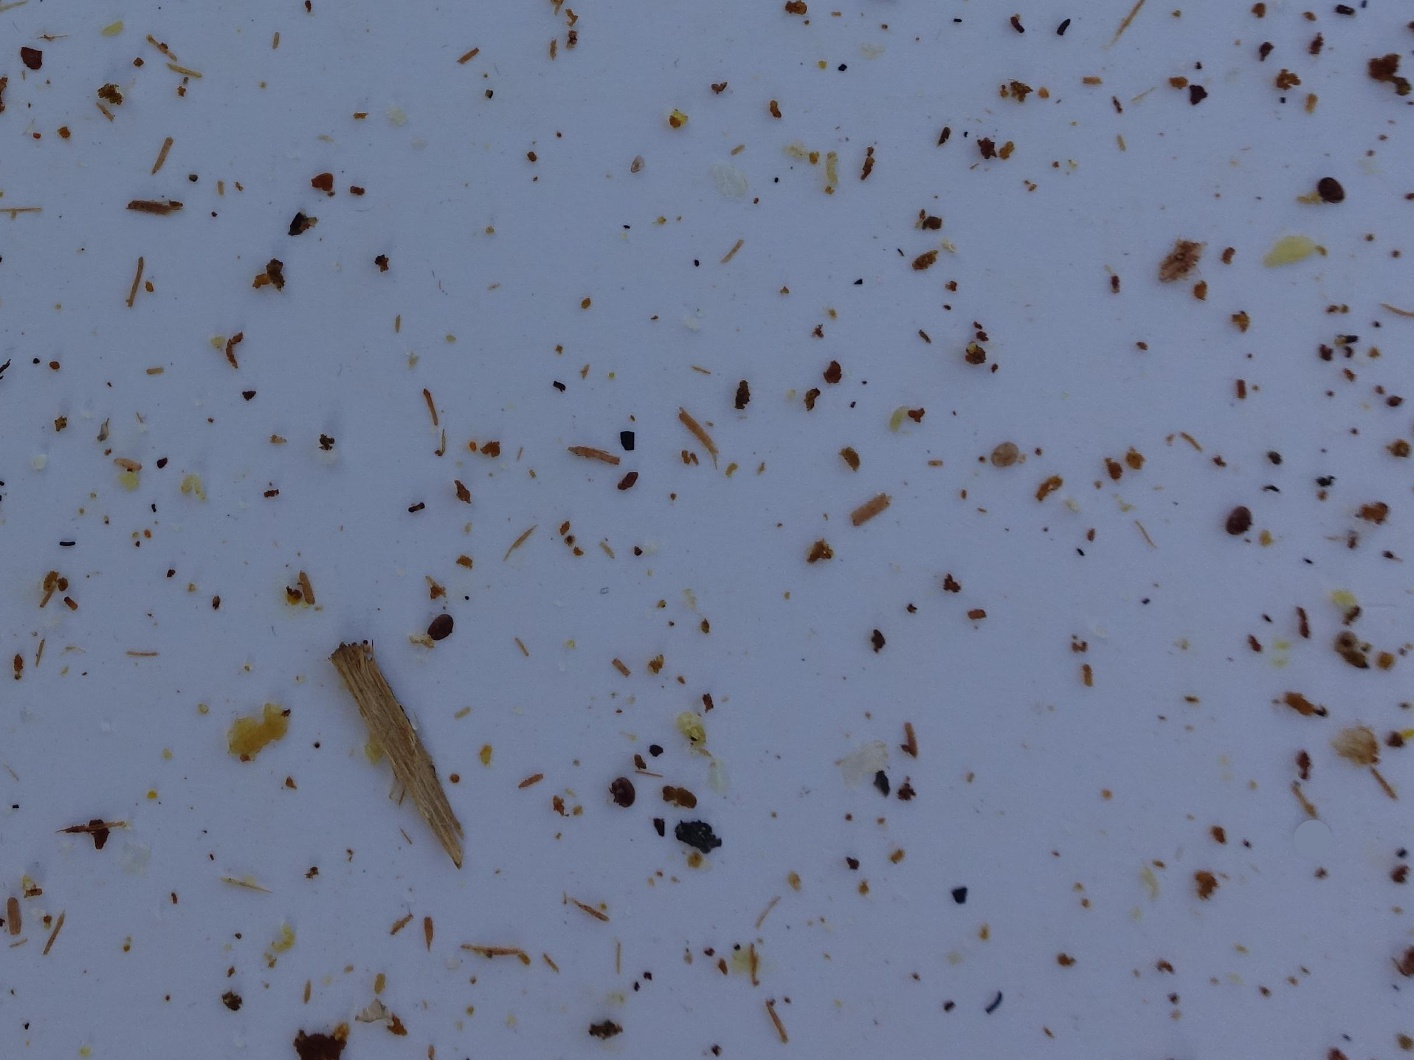Varroa: (606, 771, 642, 806), (1313, 173, 1348, 208), (1222, 503, 1257, 539), (423, 614, 456, 649)
